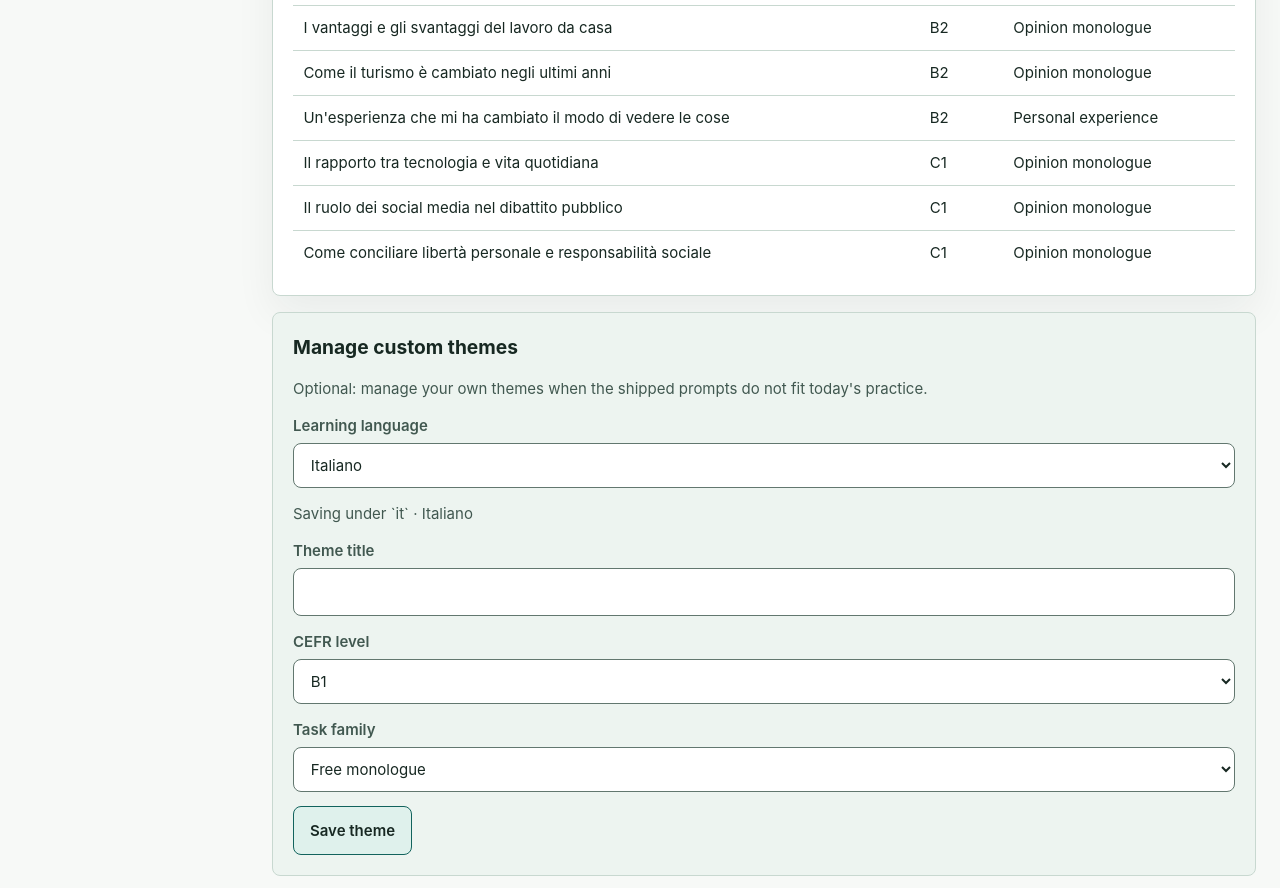
Library and Guide routes › only allows themes to be added for profiled practice languages
This screenshot has width=1280, height=888.
(page scrolled)
expect the dropdown labelled "Learning language" is shown: met, box [293, 443, 1235, 488]
Type "A new English topic" into the field. click: (764, 592)
box: [293, 568, 1235, 616]
(page scrolled)
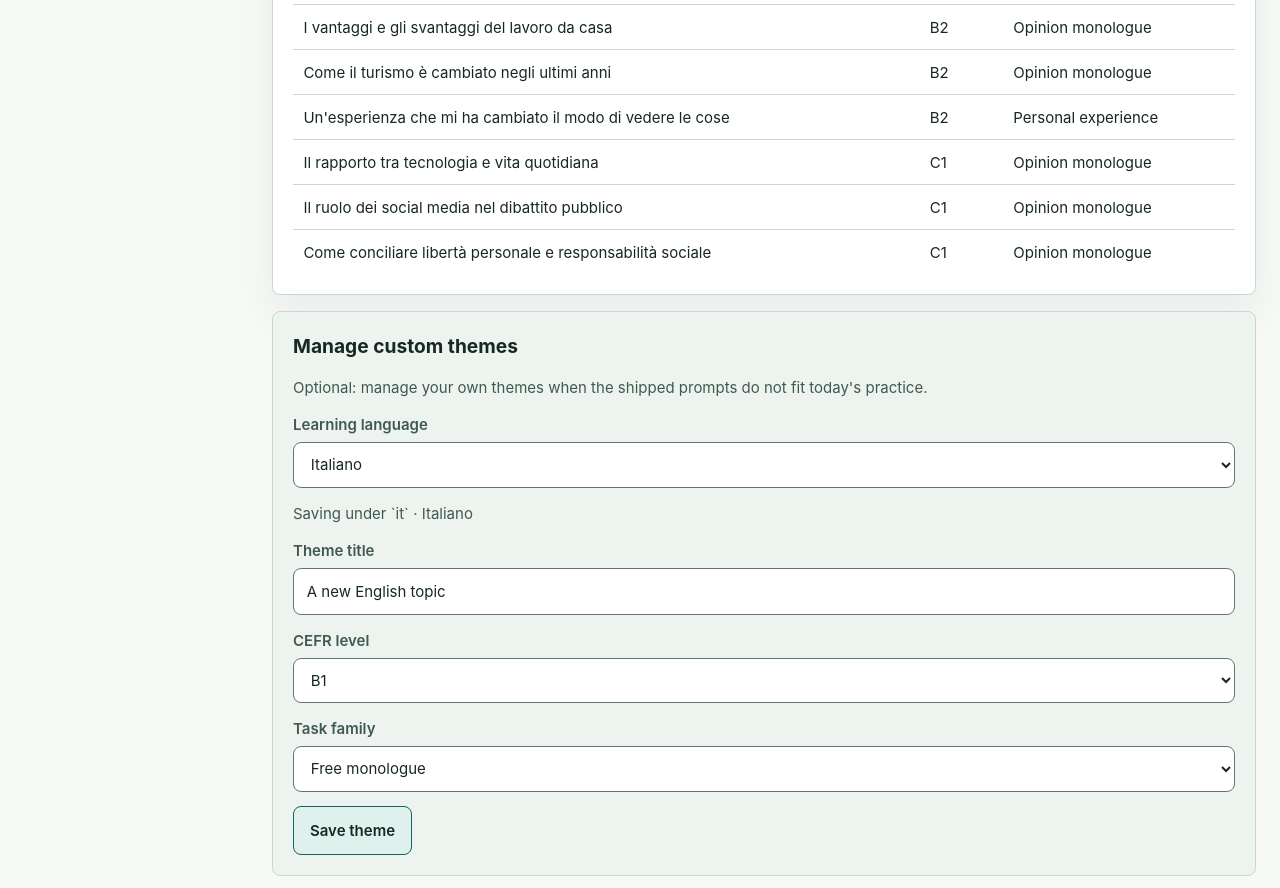
Click the button with test id "library.save_theme". click: click(353, 830)
box: [293, 806, 412, 855]
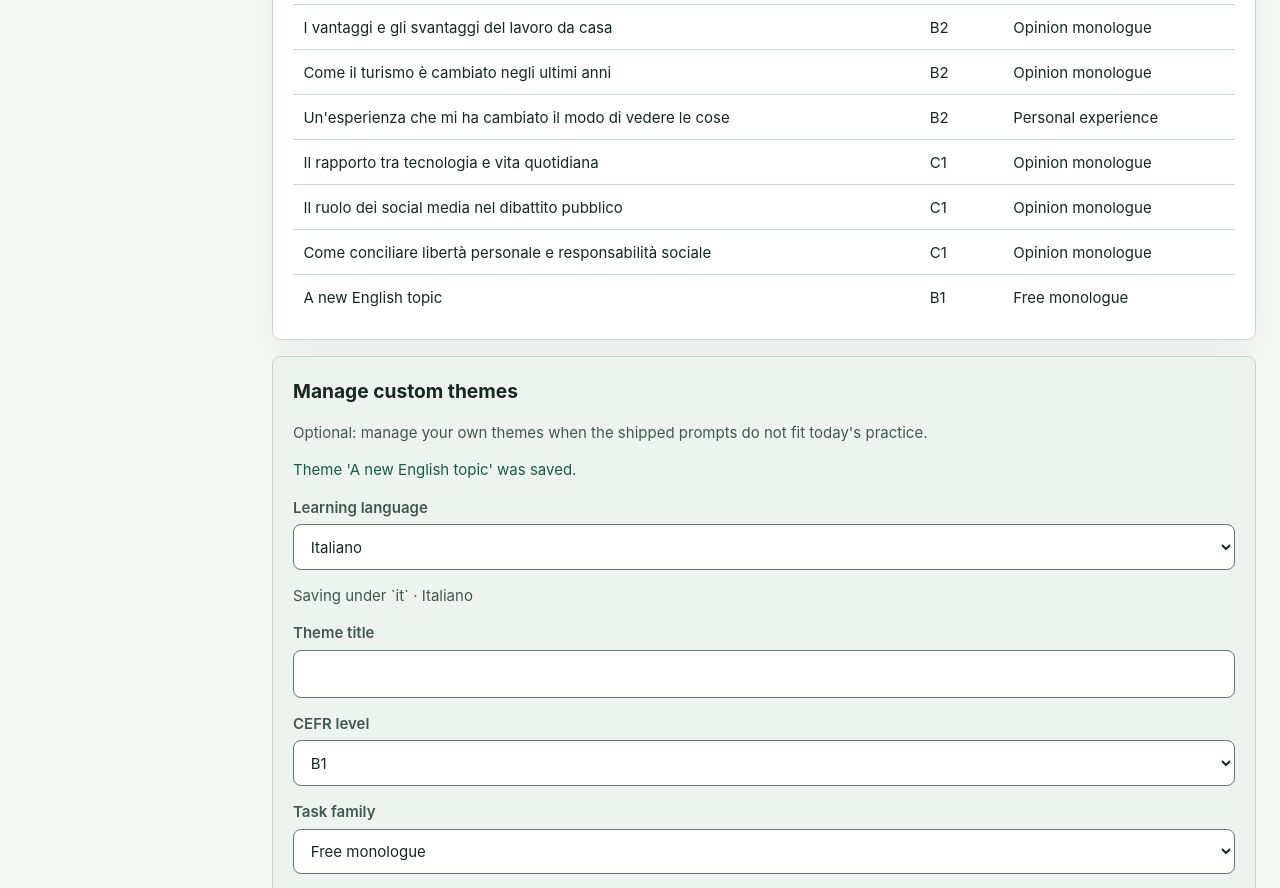
expect the text "A new English topic" is shown: met, box [293, 275, 919, 319]
